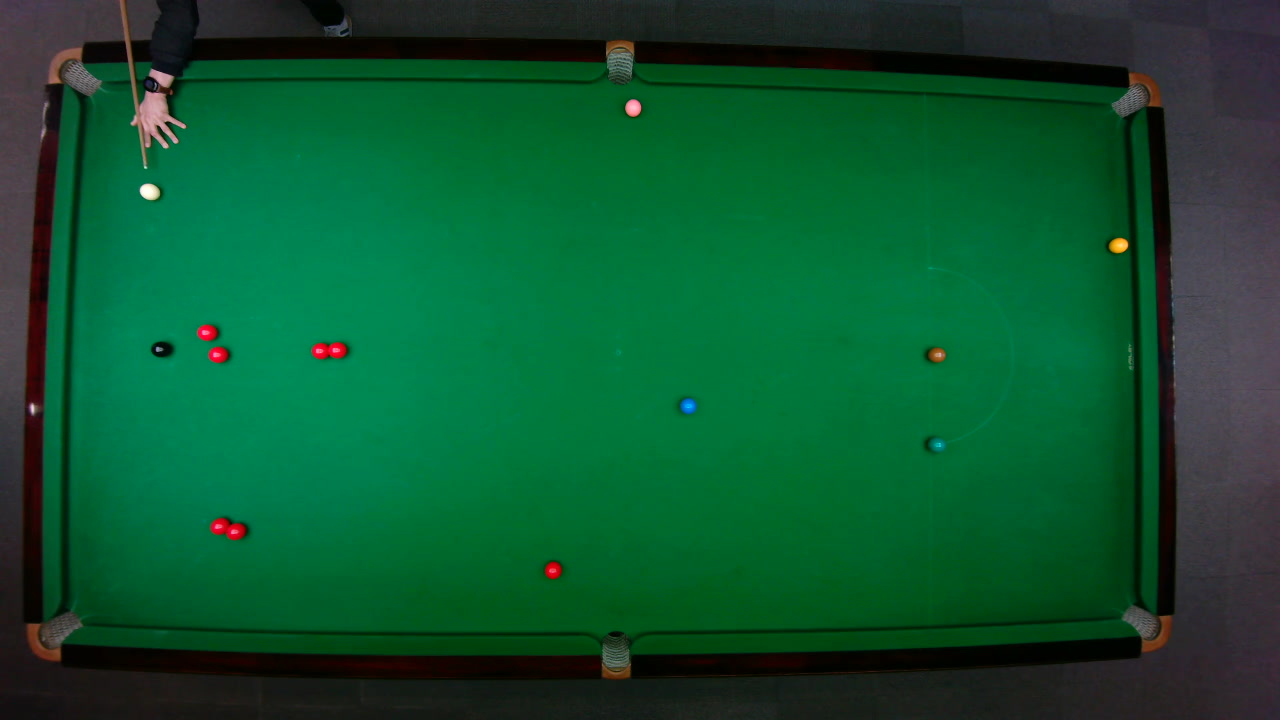bag: (24, 609, 83, 661), (45, 46, 101, 96), (1119, 603, 1171, 652), (1108, 71, 1161, 117), (601, 629, 630, 680), (605, 38, 633, 85)
black: (149, 340, 171, 357)
blue: (678, 396, 697, 414)
brown: (926, 346, 945, 362)
cue: (119, 1, 149, 172)
green: (926, 435, 946, 452)
pink: (623, 97, 642, 117)
red: (208, 516, 230, 536), (324, 340, 347, 359), (195, 322, 218, 341), (224, 521, 247, 540), (542, 559, 563, 579), (206, 345, 229, 363), (309, 341, 330, 359)
white: (137, 181, 161, 200)
yellow: (1107, 236, 1129, 253)
zone: (926, 265, 1013, 445)
